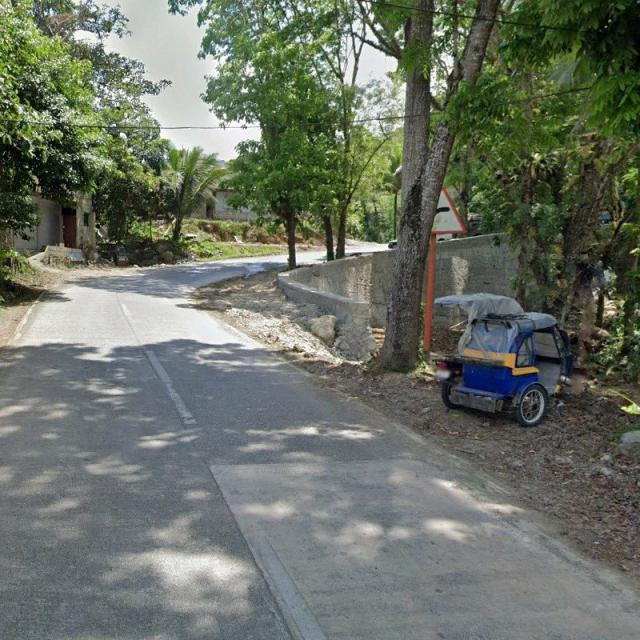warn_double_curve: (413, 181, 466, 235)
